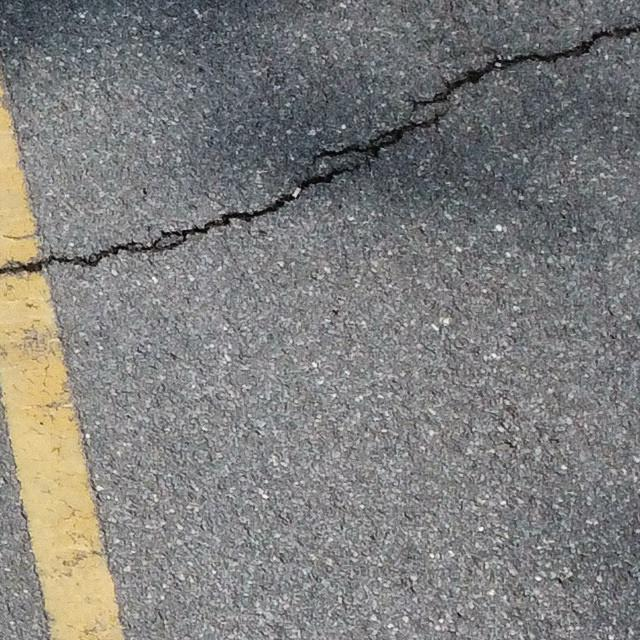TransverseCrack: (1, 112, 451, 276), (413, 24, 640, 112)
